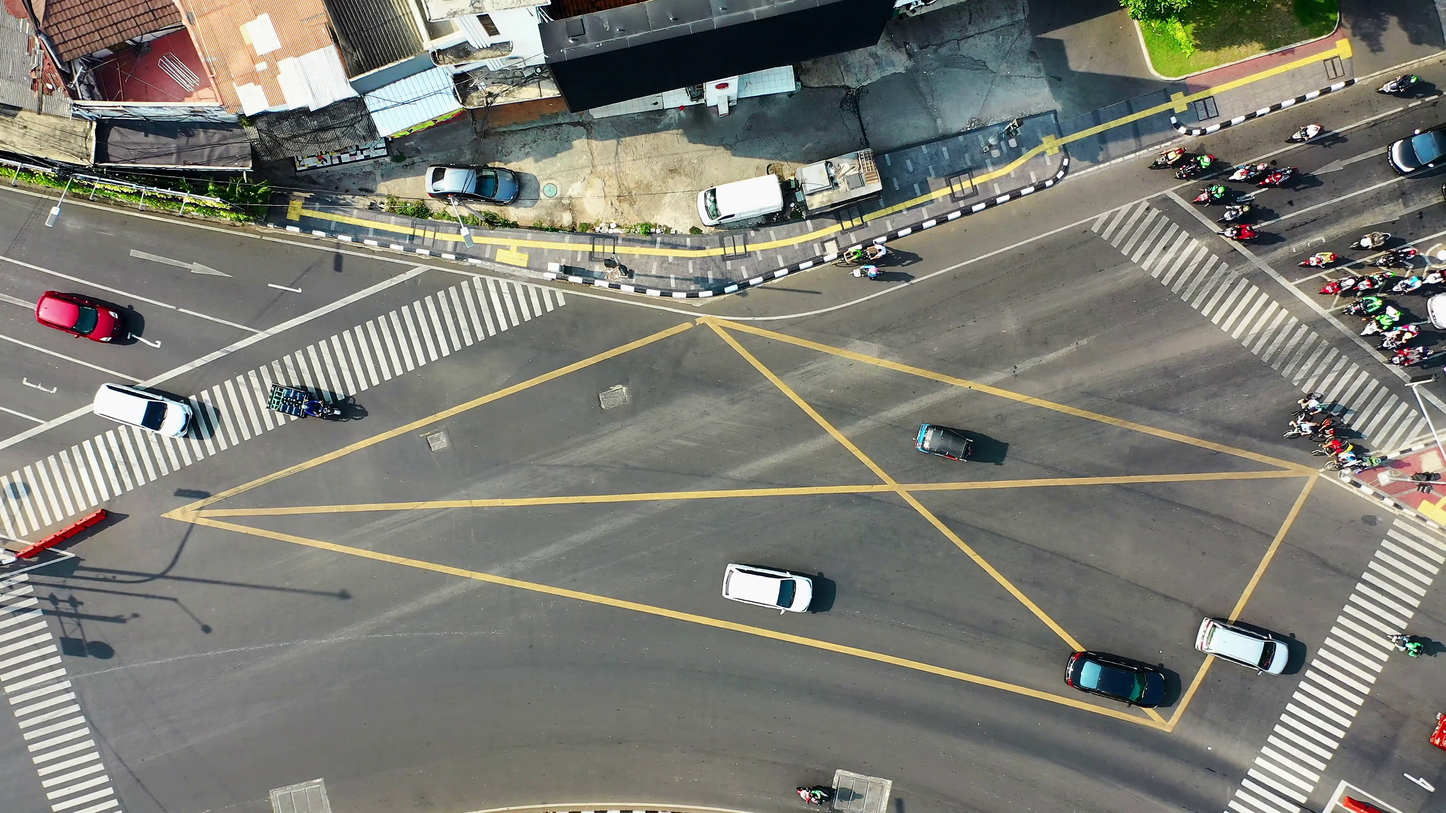Vehicle: (81, 376, 211, 444), (31, 283, 141, 349), (1065, 644, 1166, 710), (1193, 617, 1292, 682), (260, 376, 353, 436), (424, 163, 540, 207), (697, 173, 784, 227), (1388, 123, 1446, 180), (911, 424, 974, 467), (1373, 67, 1430, 103), (771, 572, 813, 615), (789, 776, 843, 809), (1384, 630, 1429, 669), (1385, 343, 1435, 373), (1293, 248, 1346, 275), (1350, 224, 1397, 254), (1373, 242, 1430, 266), (1217, 196, 1263, 223), (1283, 119, 1325, 148), (1319, 270, 1362, 298), (1361, 310, 1403, 336), (1357, 267, 1395, 293), (1175, 155, 1213, 179), (1346, 295, 1387, 317), (1390, 272, 1429, 295), (1381, 326, 1420, 349), (1148, 147, 1187, 170), (1256, 166, 1298, 187), (1192, 184, 1229, 207), (1228, 163, 1268, 182), (1218, 224, 1259, 239)
